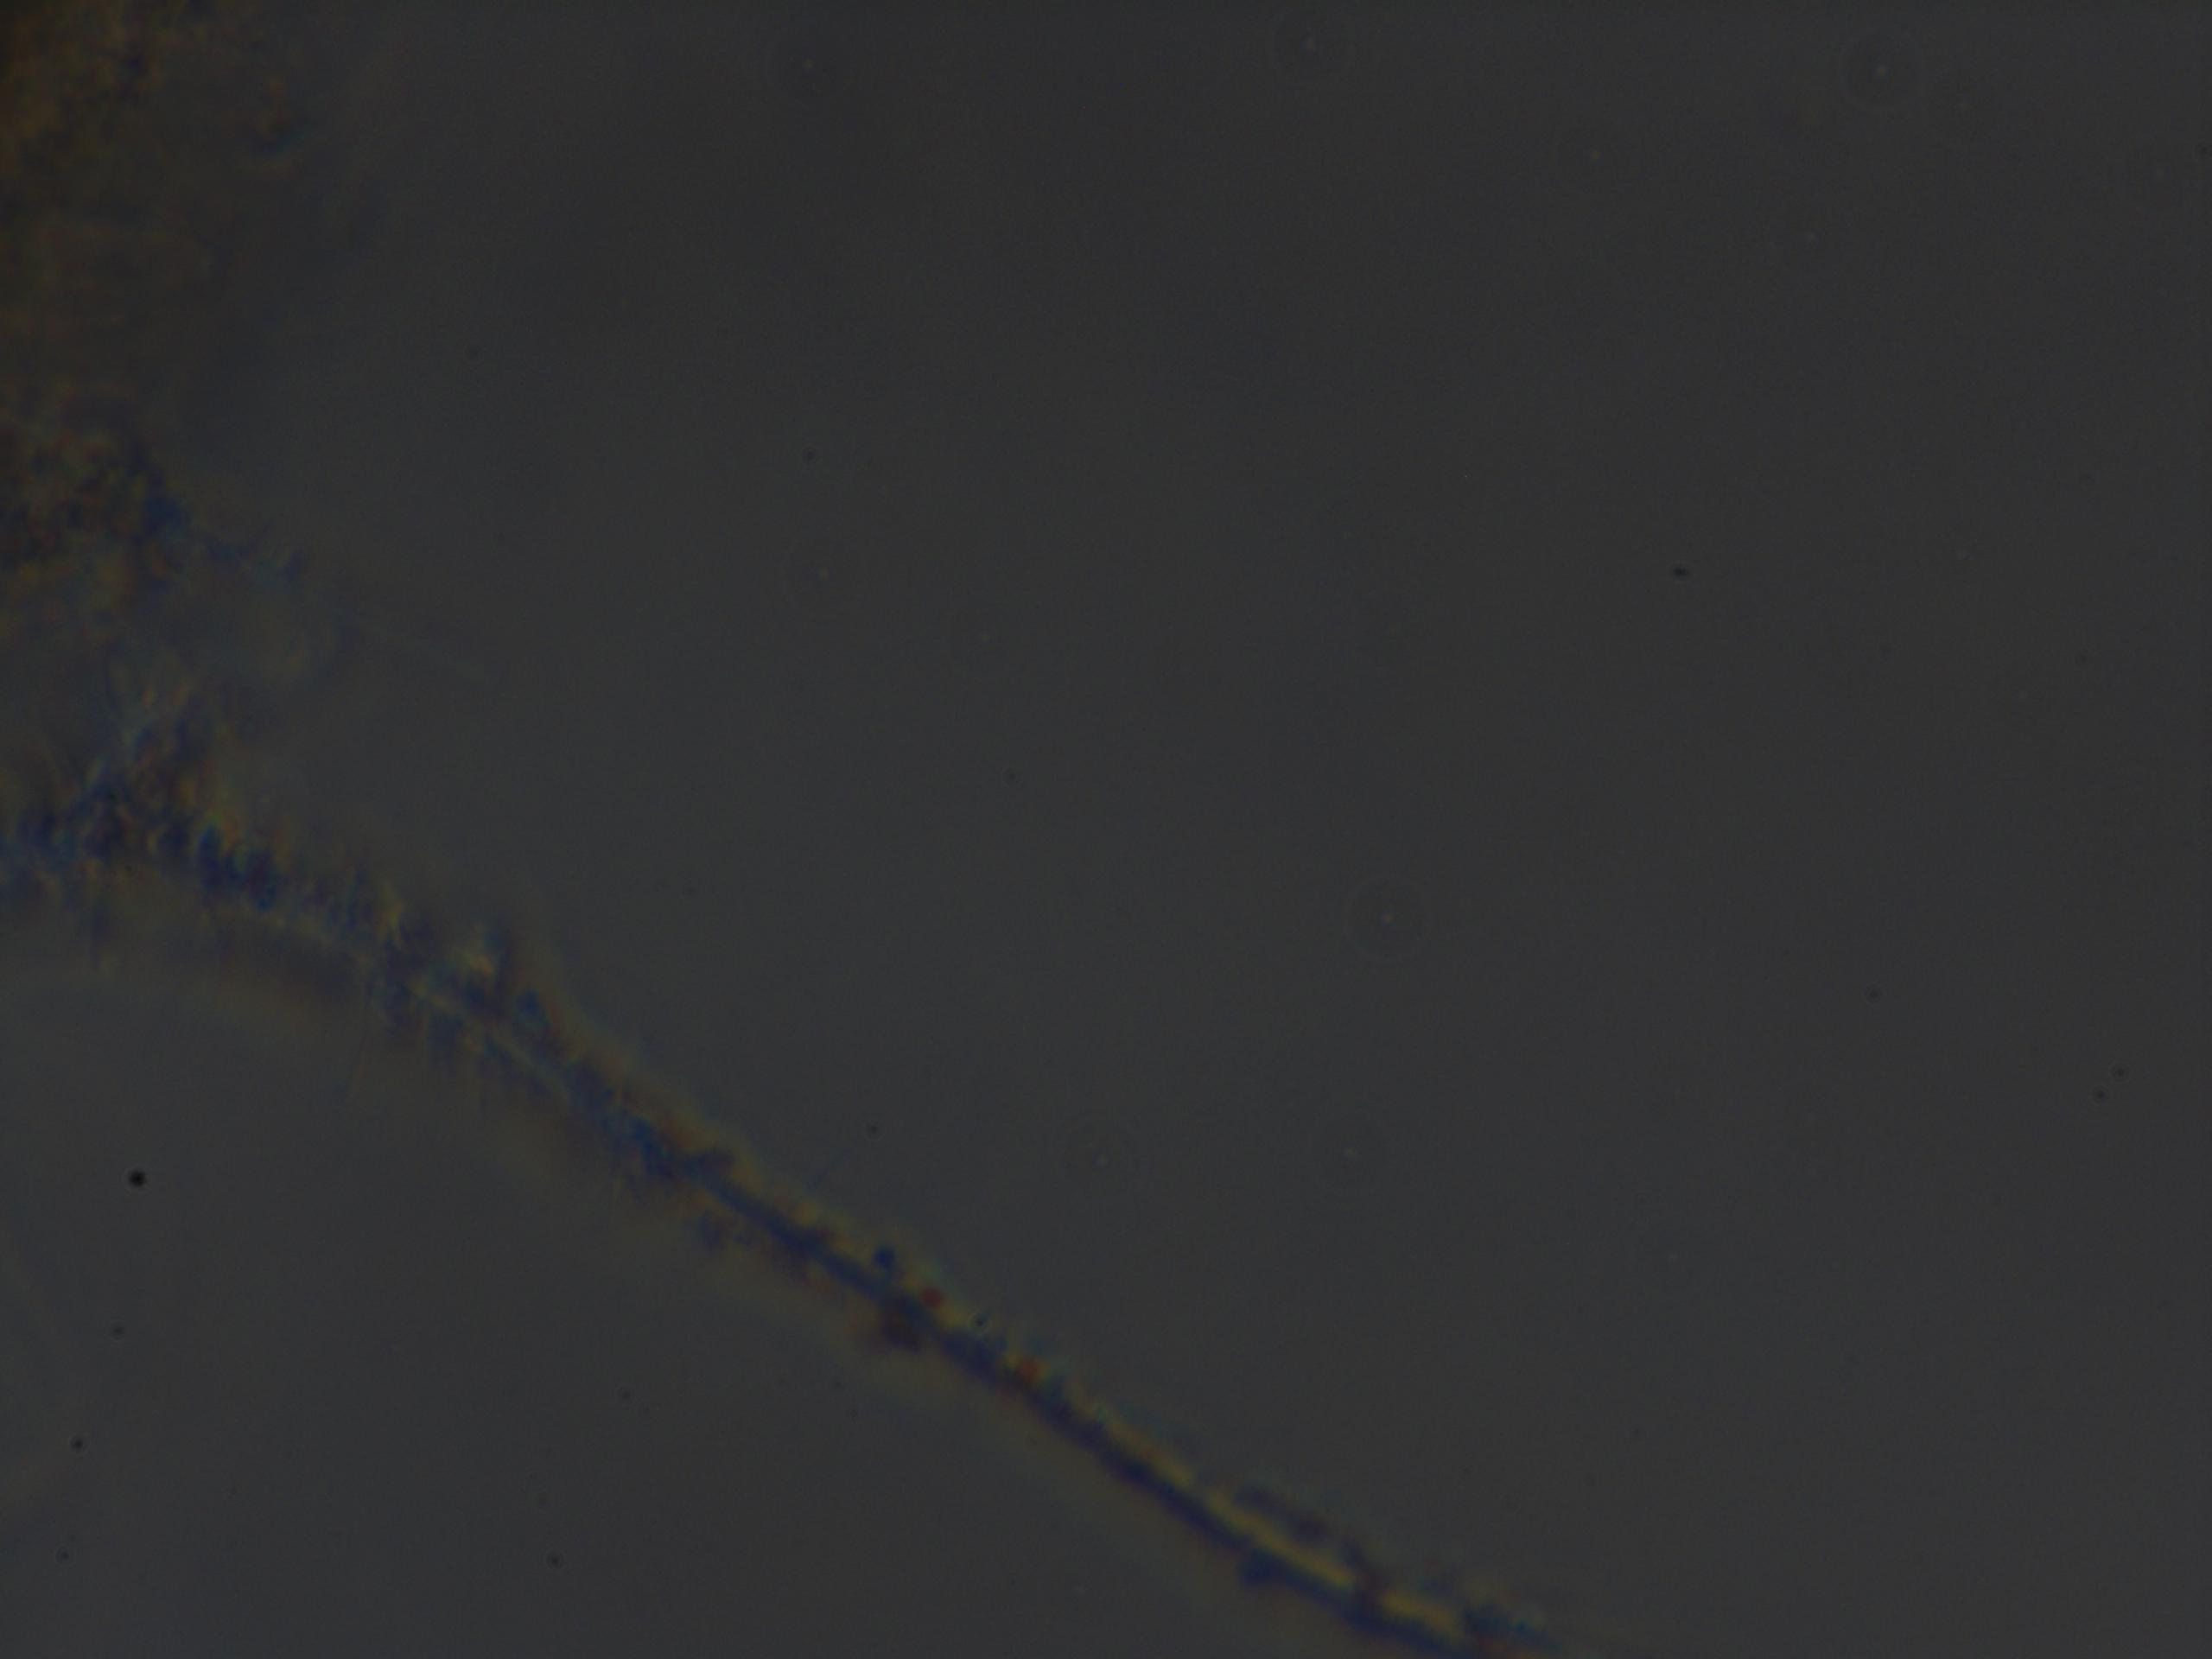filament: (73, 765, 1557, 1659)
